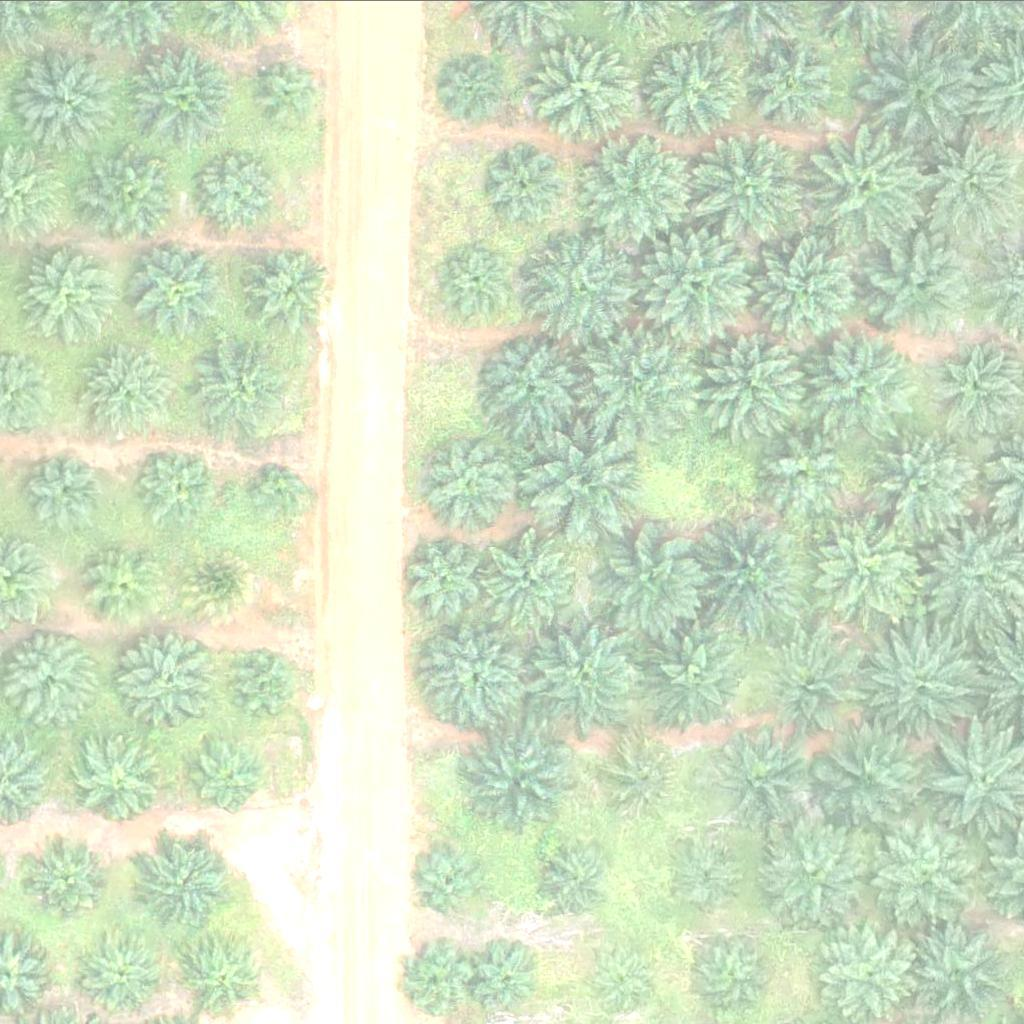Kelapa_Sawit: (458, 719, 584, 844), (519, 612, 645, 737), (589, 517, 715, 642), (522, 420, 648, 545), (581, 317, 707, 442), (746, 223, 872, 348), (688, 122, 814, 247), (803, 123, 929, 248), (859, 27, 985, 152), (699, 323, 813, 436), (815, 721, 928, 834), (869, 625, 982, 738), (804, 325, 917, 438), (870, 231, 983, 344), (581, 131, 694, 244), (637, 229, 751, 341), (755, 816, 868, 928), (870, 814, 983, 926), (641, 616, 754, 728), (757, 629, 870, 741), (694, 517, 807, 629), (813, 512, 926, 624), (868, 431, 981, 543), (522, 234, 635, 346), (13, 46, 114, 146), (135, 45, 236, 145), (79, 140, 180, 240), (20, 242, 121, 342), (135, 828, 236, 928), (422, 627, 523, 727), (531, 39, 632, 139), (646, 40, 747, 140), (237, 239, 337, 339), (187, 333, 287, 433), (1, 623, 101, 723), (119, 627, 219, 727), (822, 923, 922, 1023), (479, 528, 579, 628), (485, 338, 585, 438), (742, 33, 842, 133), (177, 930, 266, 1018), (193, 146, 281, 234), (25, 828, 113, 916), (76, 927, 164, 1015), (690, 928, 778, 1016), (760, 426, 848, 514), (133, 242, 221, 329), (76, 346, 164, 433), (78, 730, 166, 817), (713, 732, 801, 819), (400, 535, 488, 622), (426, 441, 514, 528), (89, 545, 165, 620), (28, 455, 104, 530), (443, 242, 519, 317), (252, 53, 328, 128), (137, 448, 213, 523), (178, 544, 254, 619), (227, 646, 303, 721), (606, 738, 681, 813), (487, 145, 562, 220), (186, 736, 261, 811), (397, 946, 472, 1021), (475, 942, 550, 1017), (412, 844, 487, 919), (542, 841, 617, 916), (672, 835, 747, 910), (441, 56, 504, 119), (250, 459, 313, 521), (594, 949, 657, 1011)
